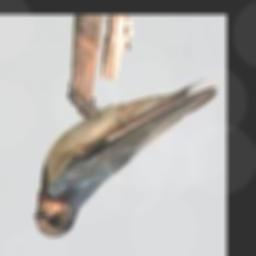Swallow: (34, 82, 218, 236)
